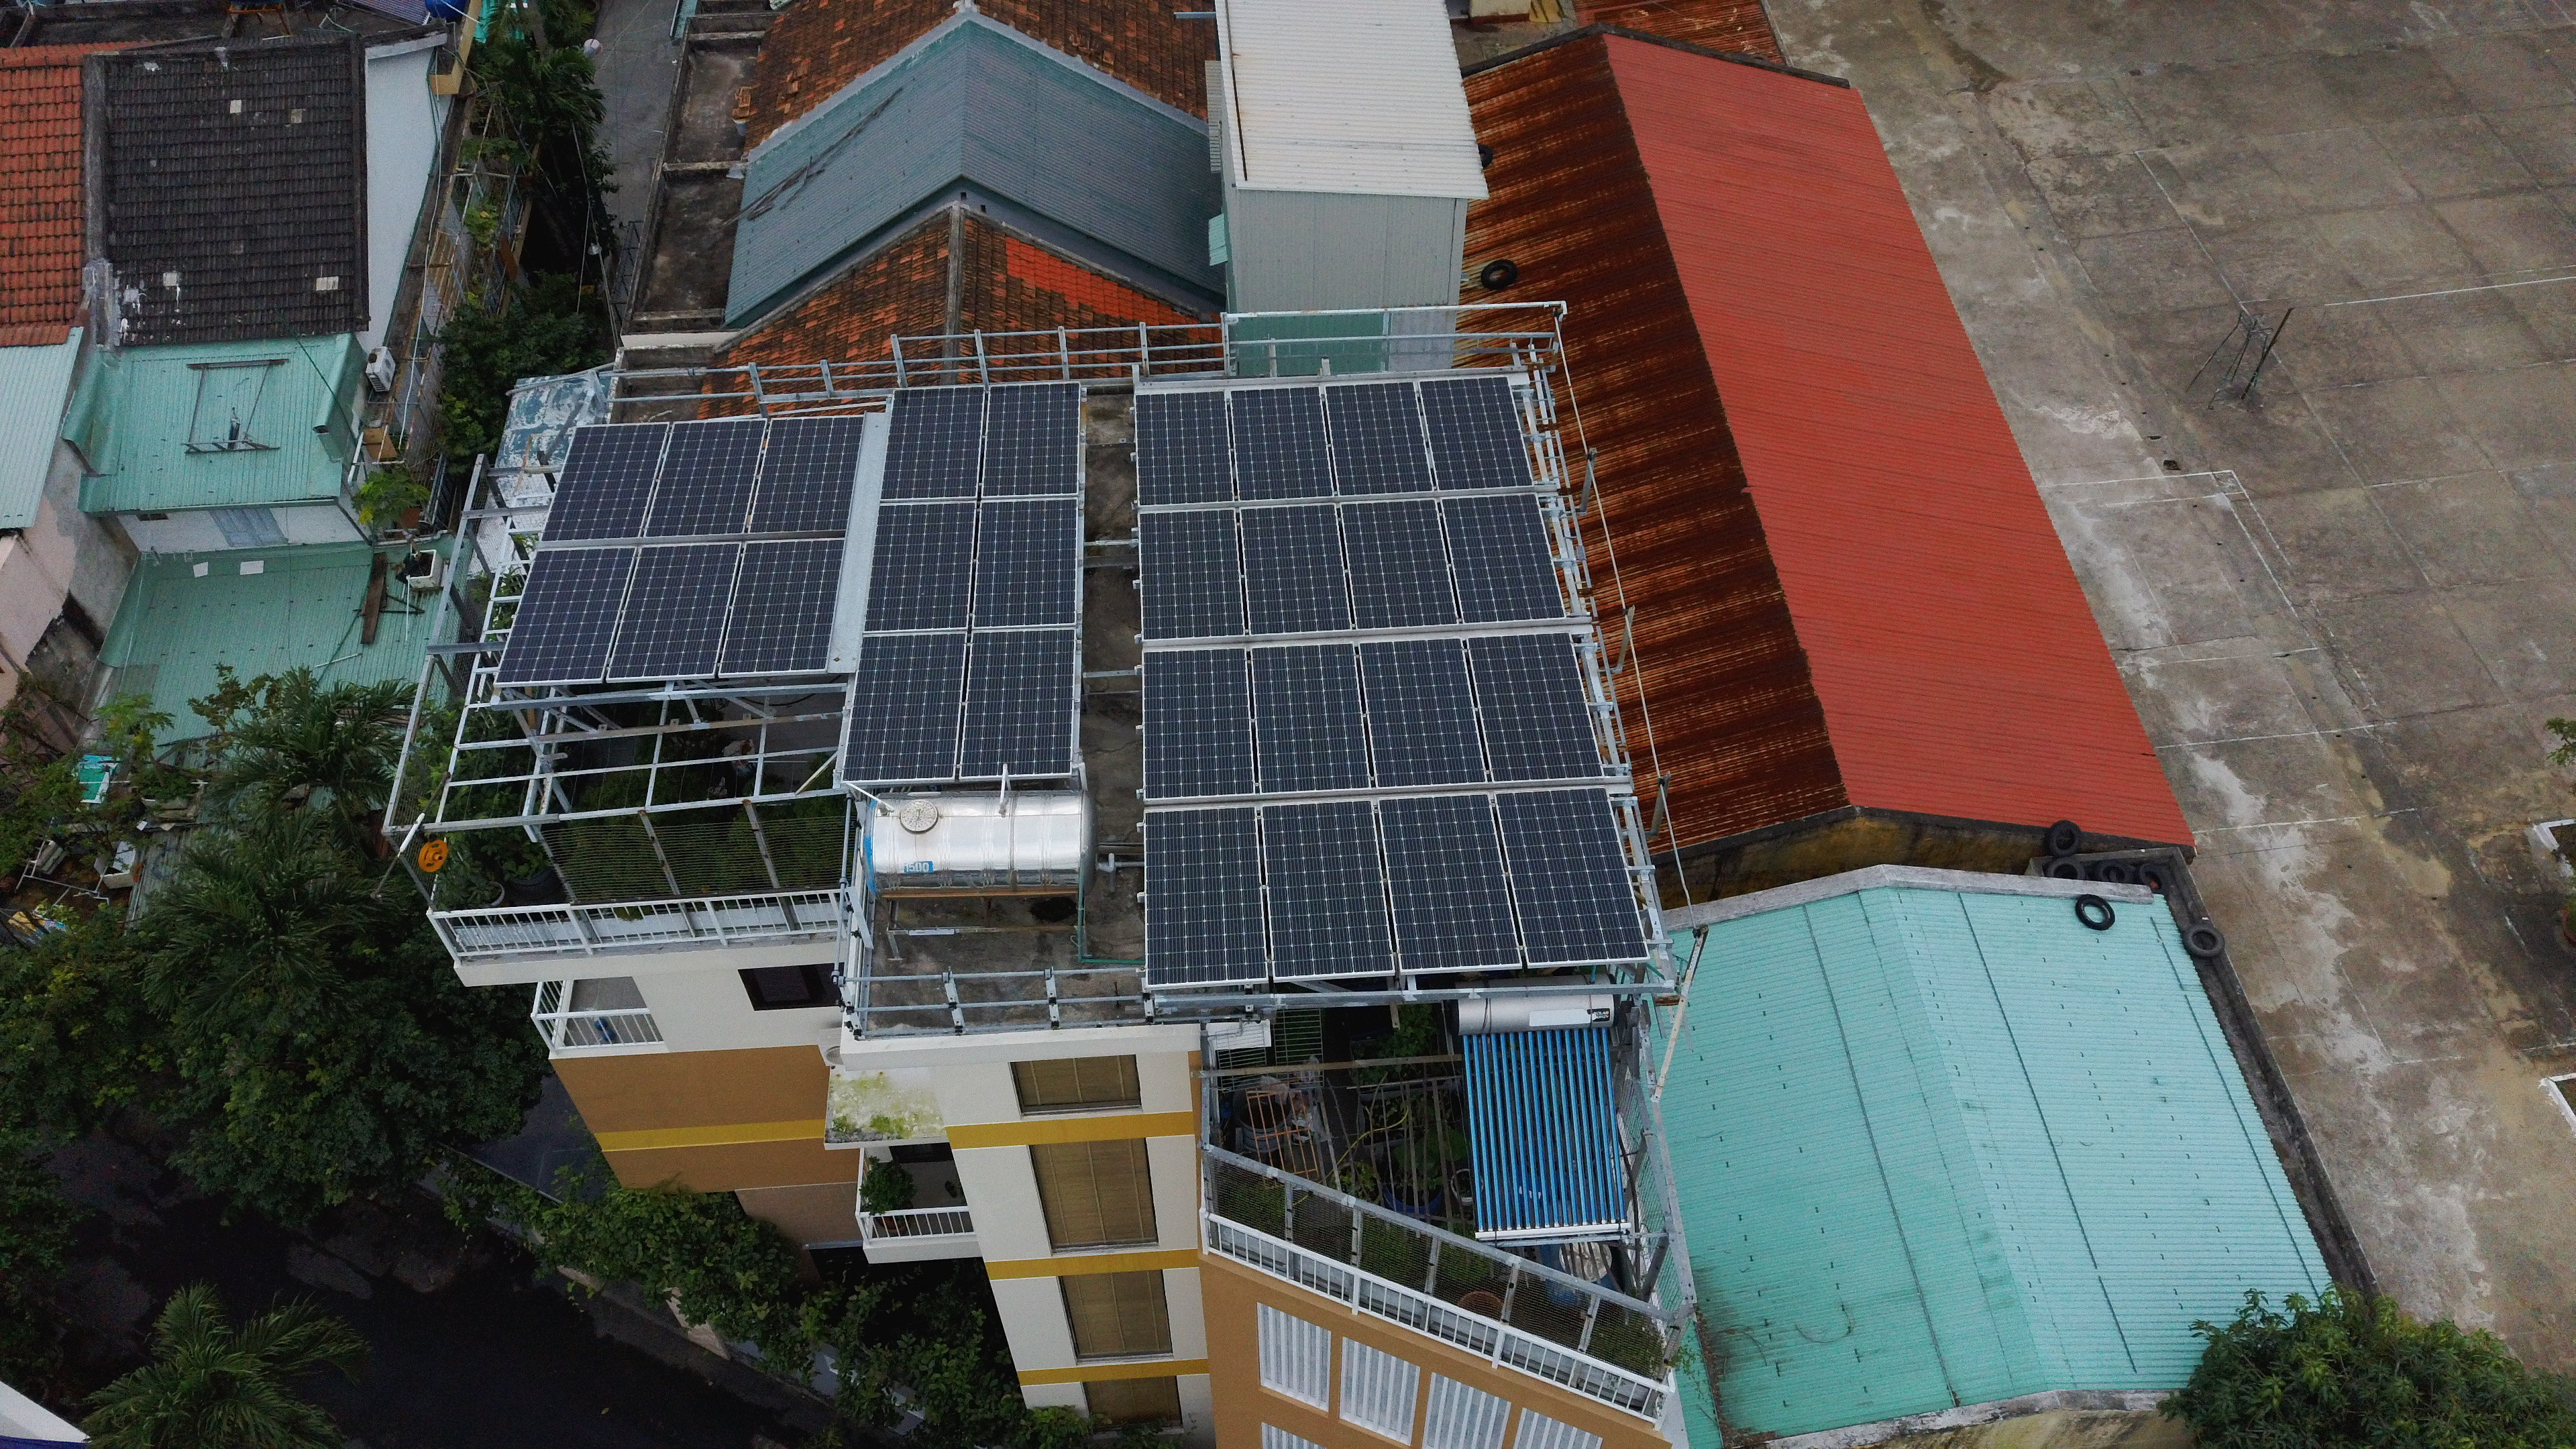solar: (1484, 773, 1663, 966), (1362, 780, 1537, 973), (1249, 786, 1407, 984), (1129, 794, 1277, 991), (1456, 619, 1608, 789), (1346, 626, 1499, 796), (1230, 637, 1382, 805), (598, 531, 754, 692), (1131, 632, 1269, 807), (494, 533, 639, 690), (1433, 478, 1578, 633), (955, 616, 1083, 787), (839, 621, 966, 793), (717, 529, 849, 683), (1122, 494, 1254, 644), (1230, 494, 1362, 644), (1332, 492, 1465, 640), (964, 485, 1092, 639), (536, 414, 678, 550), (1118, 379, 1253, 517), (1408, 368, 1543, 504), (1311, 372, 1445, 508), (1215, 380, 1350, 517), (860, 494, 978, 642), (642, 410, 771, 545), (740, 409, 867, 541), (876, 372, 989, 513), (973, 373, 1088, 504)
